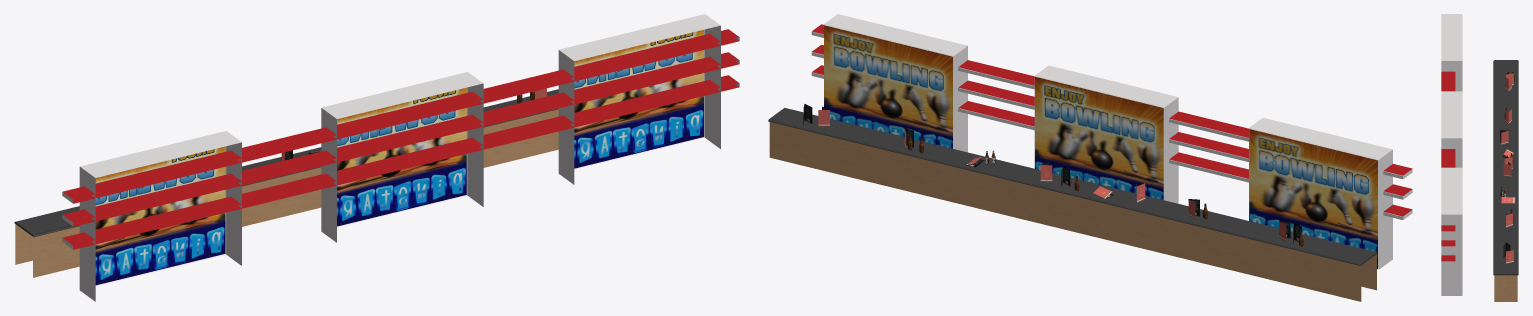
The model's file is P_Bar.fbx.
3 renders of one model, left to right at view 1: azimuth 30°, elevation 25°; view 2: azimuth 150°, elevation 25°; view 3: azimuth 270°, elevation 25°, orthographic. The views are drawn at different scales.
Visible parts, largest first — view 1: Empty_Mesh; view 2: Empty_Mesh; view 3: Empty_Mesh.
Boxes of the visible parts, x1,y1,x2,y2 form: Empty_Mesh: (14, 14, 739, 301); Empty_Mesh: (768, 14, 1412, 301); Empty_Mesh: (1441, 14, 1518, 301).
Bounding box in the file's own units: 19.73 × 3.5 × 3.02.
